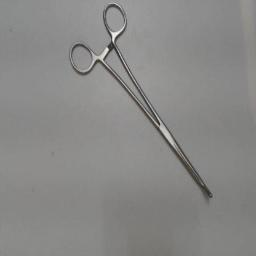Lahey Forceps: (62, 1, 218, 207)
